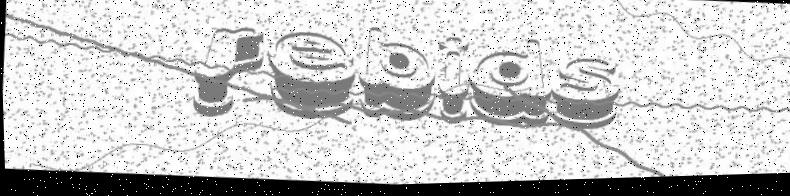b: (355, 21, 442, 130)
d: (467, 37, 556, 134)
e: (263, 30, 361, 125)
i: (433, 36, 474, 129)
r: (188, 16, 270, 121)
s: (543, 55, 624, 138)
